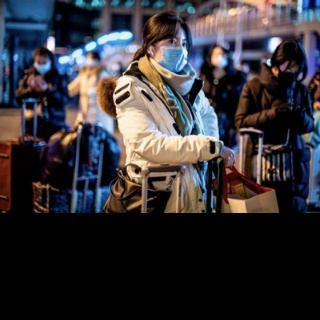with_mask: (156, 34, 188, 72), (275, 64, 301, 84), (210, 49, 229, 68), (32, 58, 52, 76)
